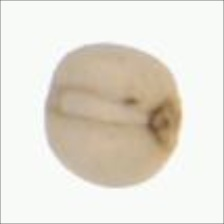L5: (46, 83, 152, 132), (149, 94, 184, 154)
L6: (41, 41, 185, 190)
